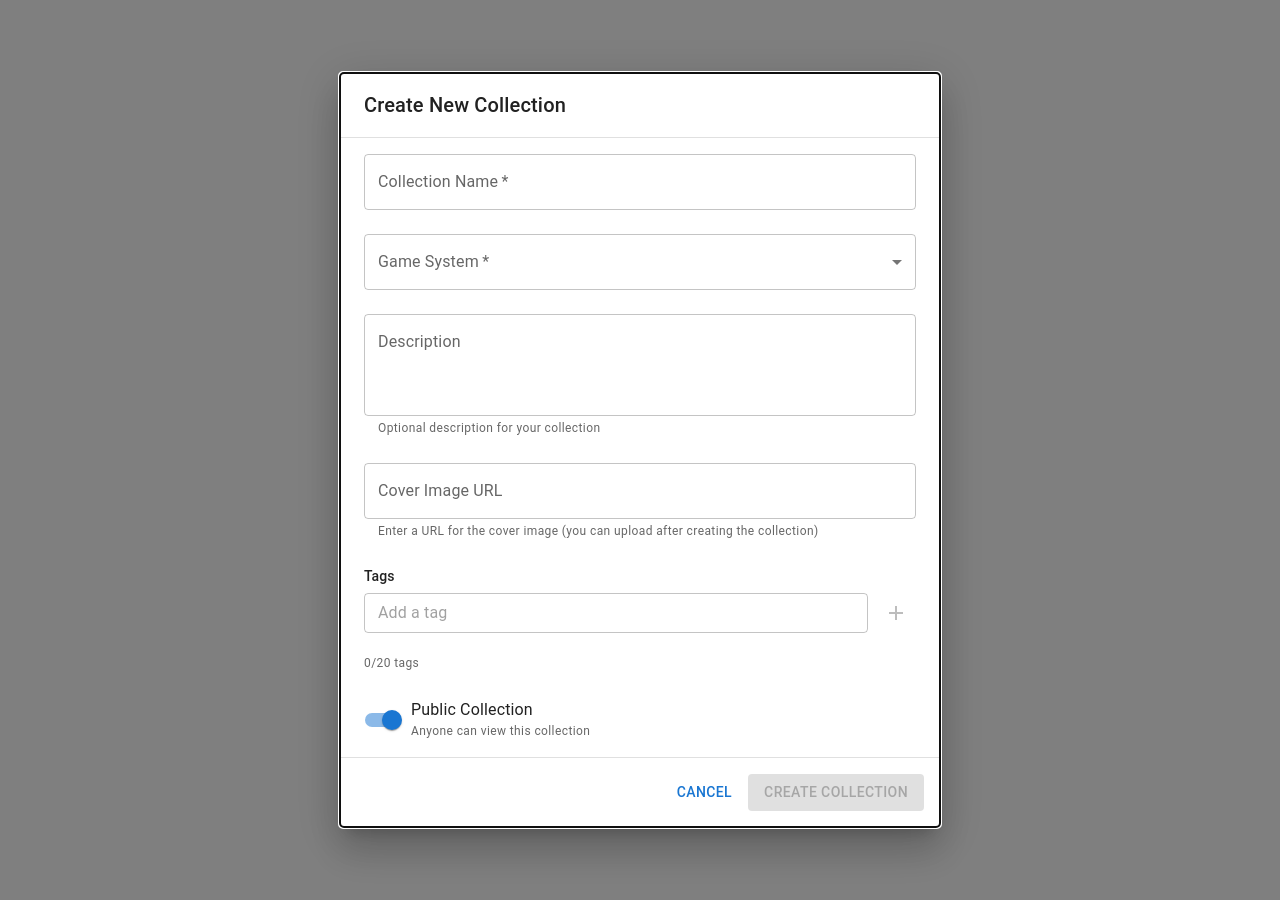
Test: CollectionForm › toggles privacy setting
The width and height of the screenshot is (1280, 900).
Expected: the text "Public Collection" is shown, x1=411 y1=700 x2=533 y2=719
Click the switch: [478, 719] box x1=365 y1=700 x2=590 y2=738
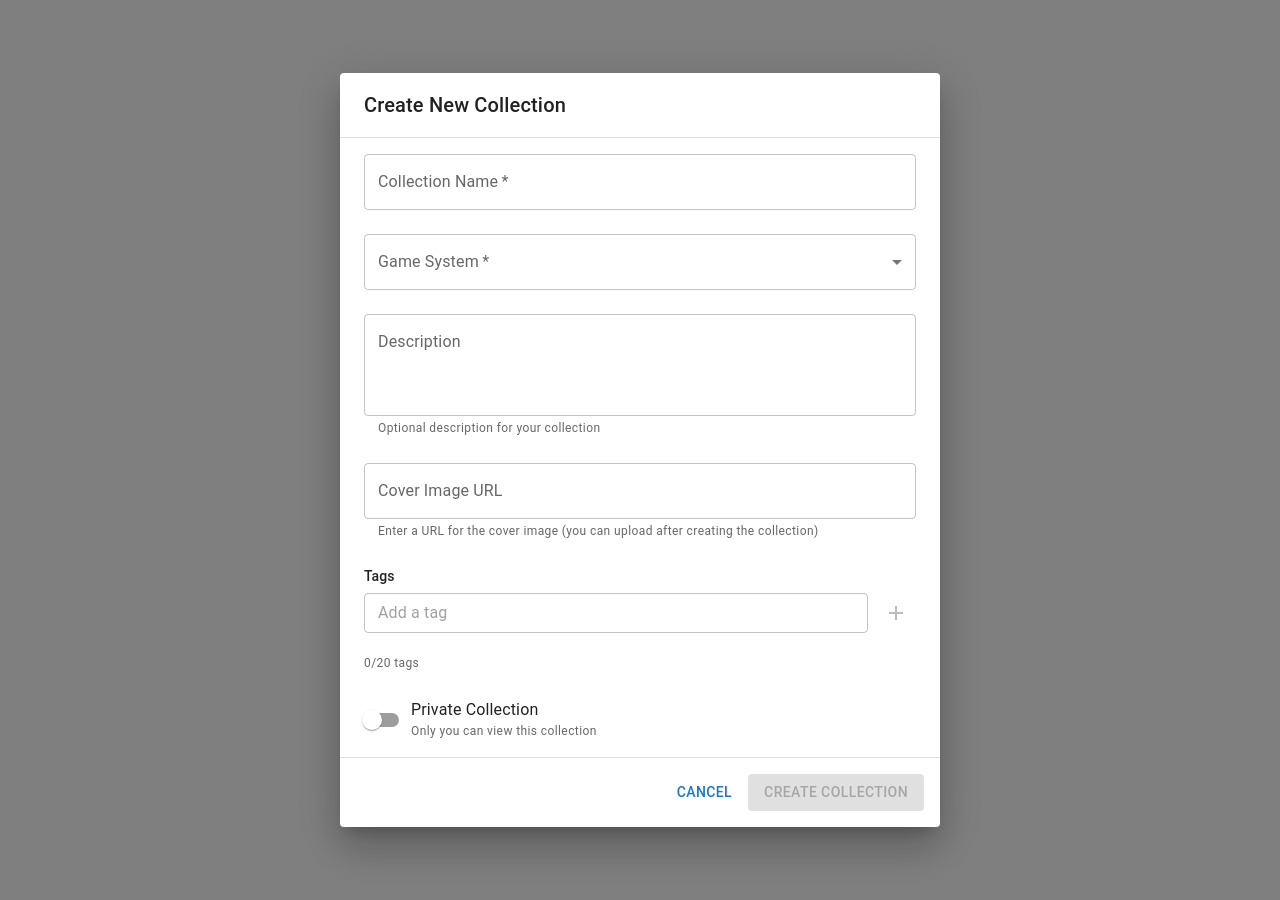
Expected: the text "Private Collection" is shown, x1=411 y1=700 x2=538 y2=719
